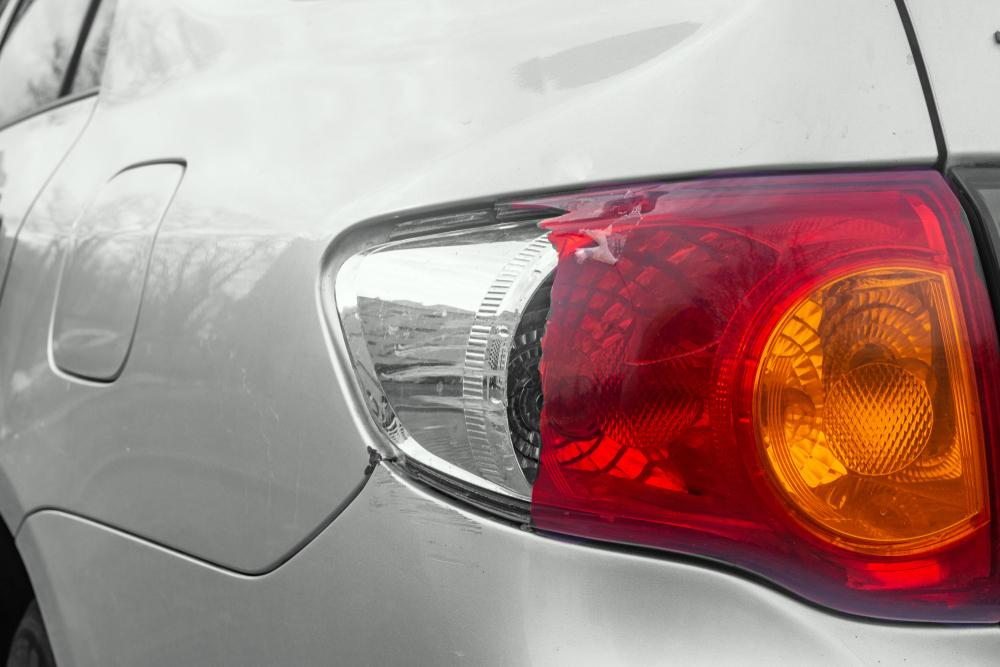lamp broken: (330, 168, 1000, 627)
scratch: (367, 468, 483, 567)
